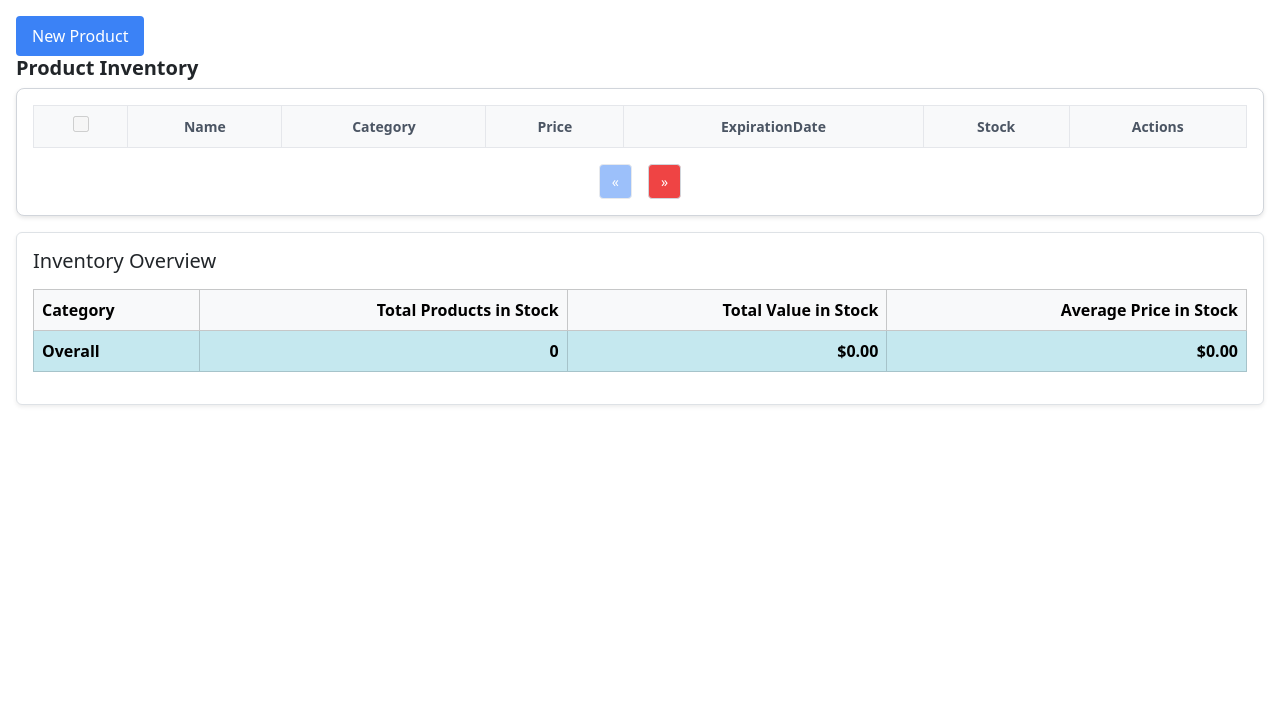
Test: InventoryPage Component › closes modal when saving a new product
Click the button "New Product" at (80, 36), box [16, 16, 144, 56]
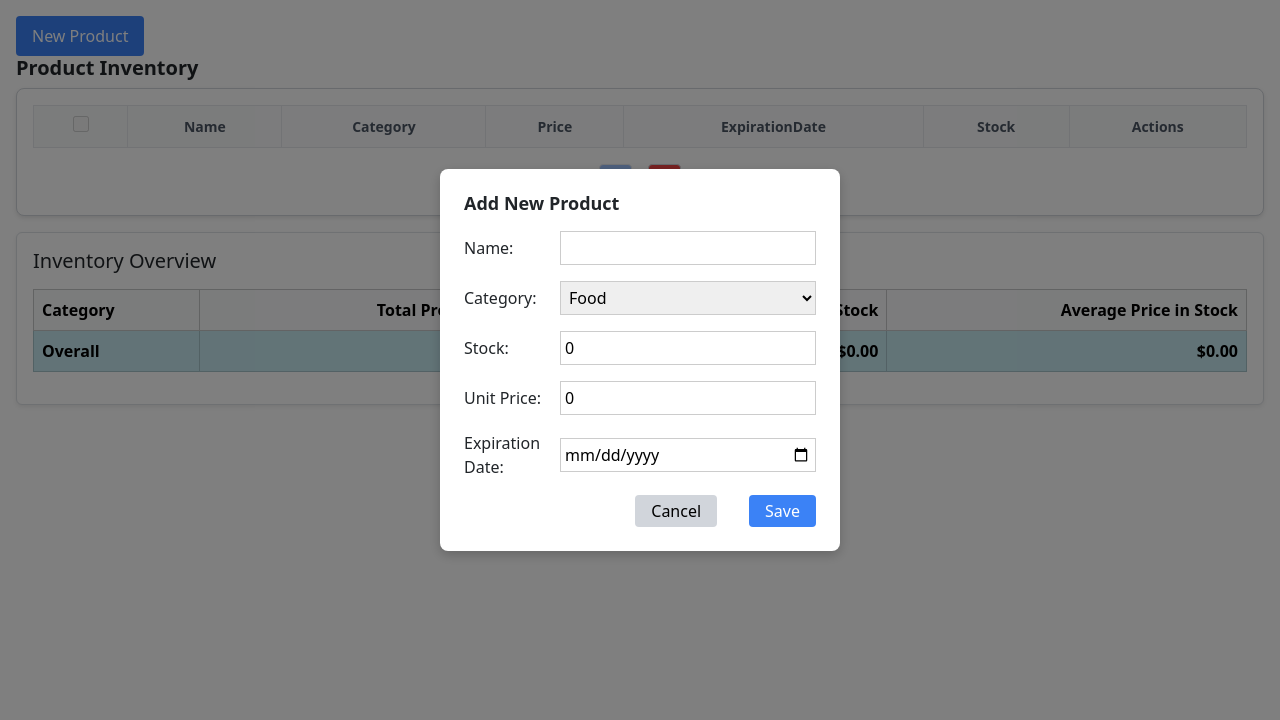
# Simular que el producto se ha guardado y el modal se cierra
Click the button "Cancel" at (676, 511), box [635, 495, 717, 527]
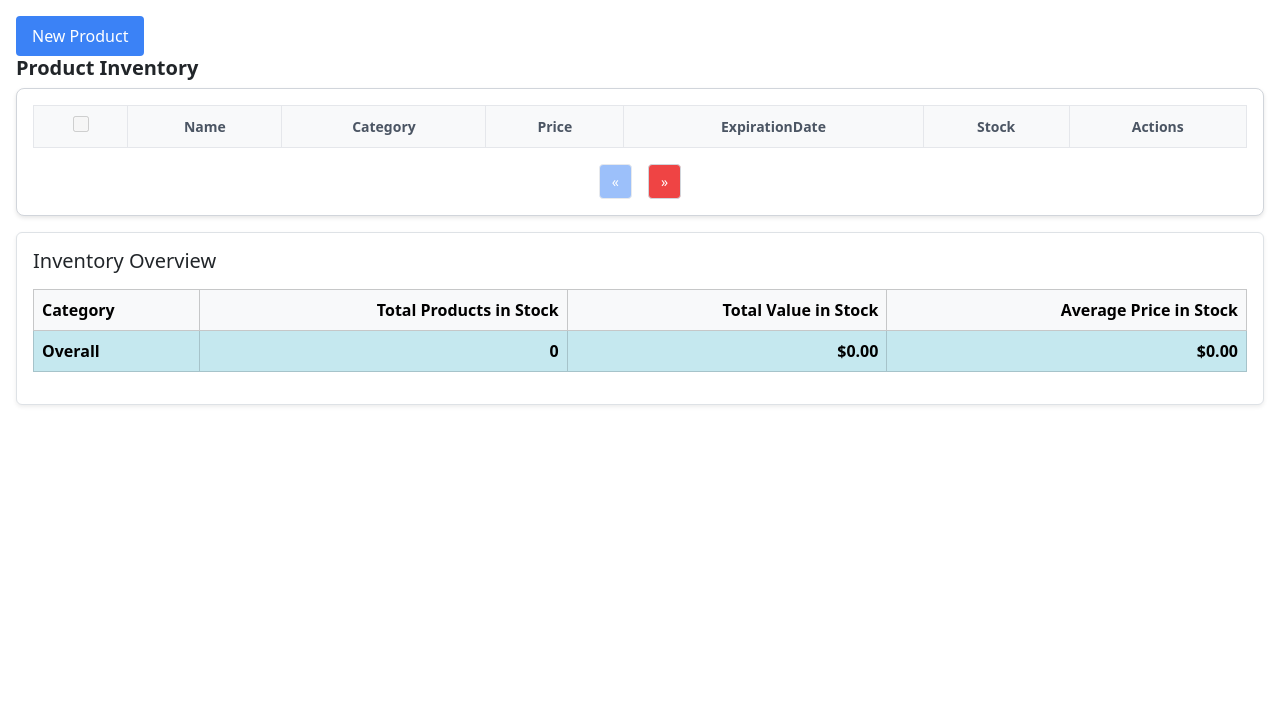
Expected: the heading "Add New Product" is gone
